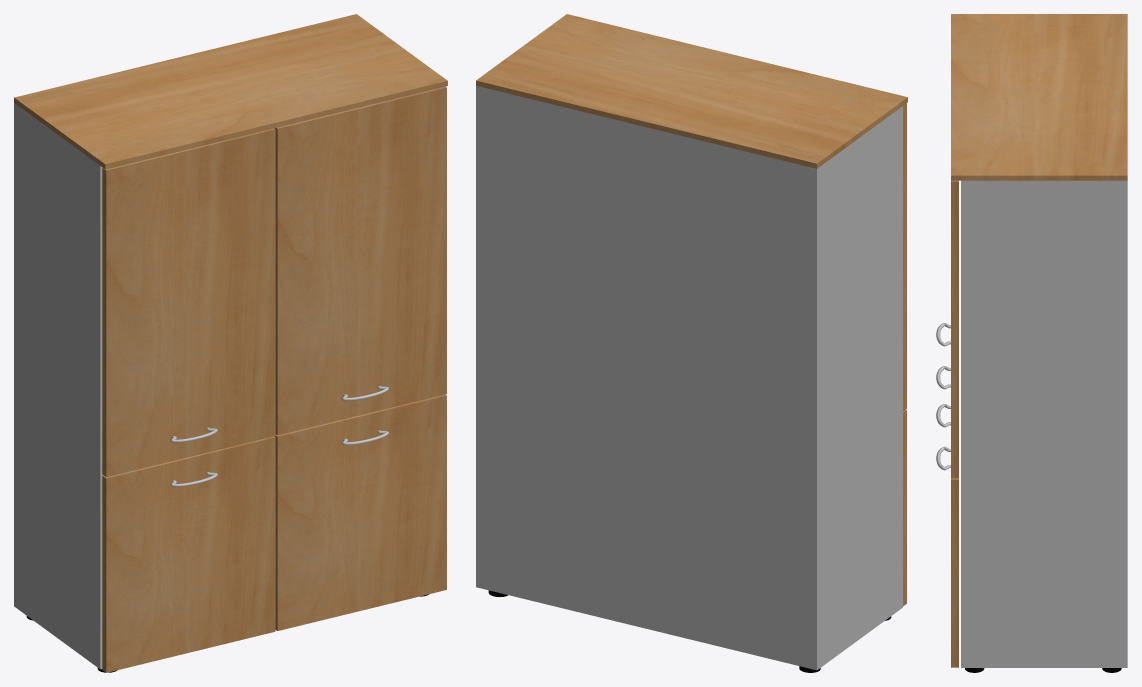
File: ropero.glb
3 renders of one model, left to right at view 1: azimuth 30°, elevation 25°; view 2: azimuth 150°, elevation 25°; view 3: azimuth 270°, elevation 25°, orthographic. The views are drawn at different scales.
Parts seen in each view (by area): view 1: ropero; view 2: ropero; view 3: ropero.
Part boxes in pixels (x1,y1,x2,y2): ropero: (14,14,447,672); ropero: (476,14,907,672); ropero: (936,14,1127,672).
Size of the model in its own units: 120 by 173 by 60.
Materials: 3 (1 with a texture image).
